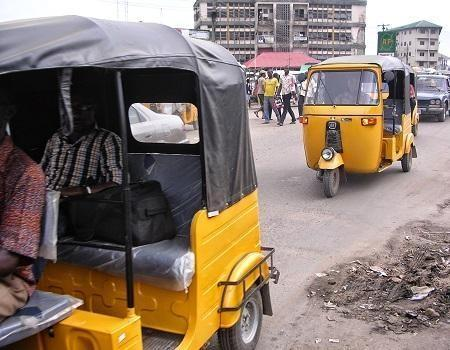keke: (1, 16, 276, 350), (301, 50, 422, 200)
